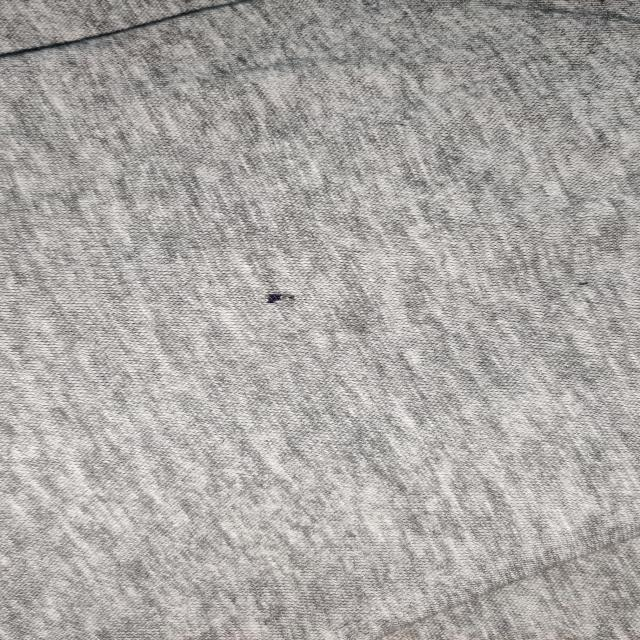Hole: (261, 288, 305, 309)
